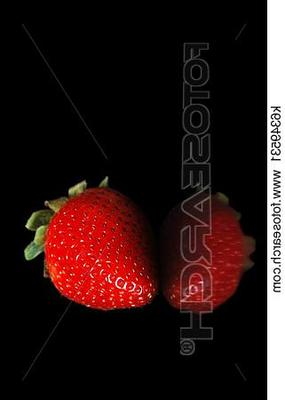strawberry: (0, 0, 285, 400)
